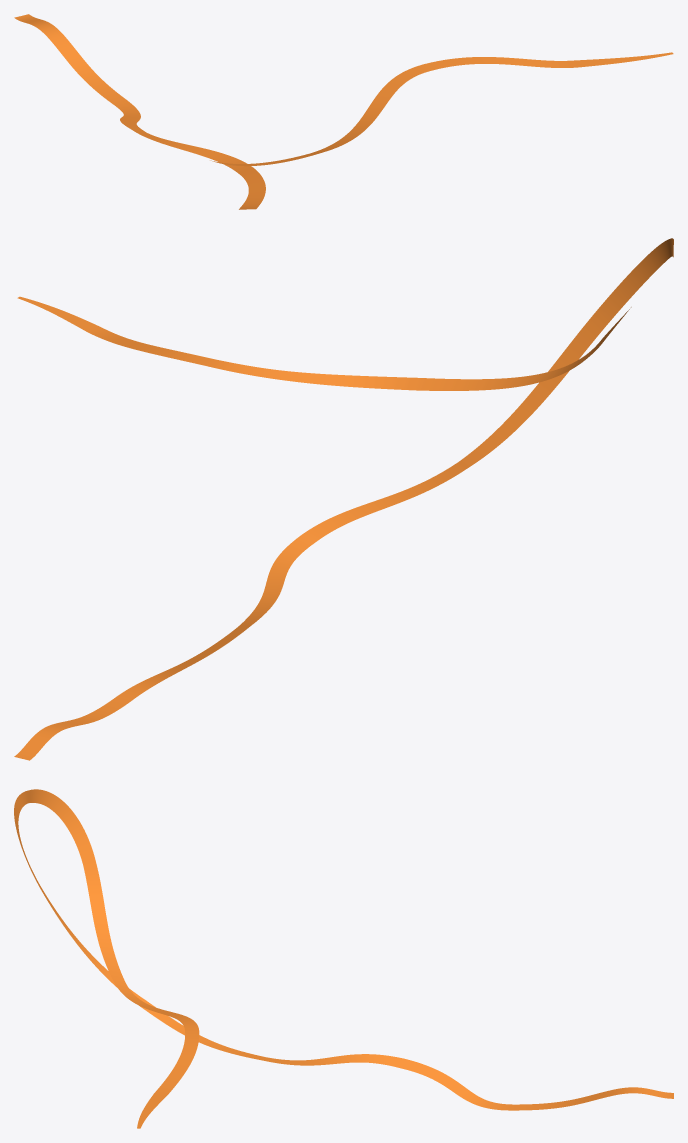
File: SkyRoad06.gltf
The picture shows the model from 3 angles, top to bottom: view 1: azimuth 30°, elevation 25°; view 2: azimuth 150°, elevation 25°; view 3: azimuth 270°, elevation 25°; orthographic projection. The views are drawn at different scales.
Parts seen in each view (by area): view 1: SkyRoad06; view 2: SkyRoad06; view 3: SkyRoad06.
Part boxes in pixels (x1,y1,x2,y2): SkyRoad06: (14,14,673,209); SkyRoad06: (14,238,673,760); SkyRoad06: (14,789,673,1128).
Size of the model in its own units: 136 by 63.21 by 167.
